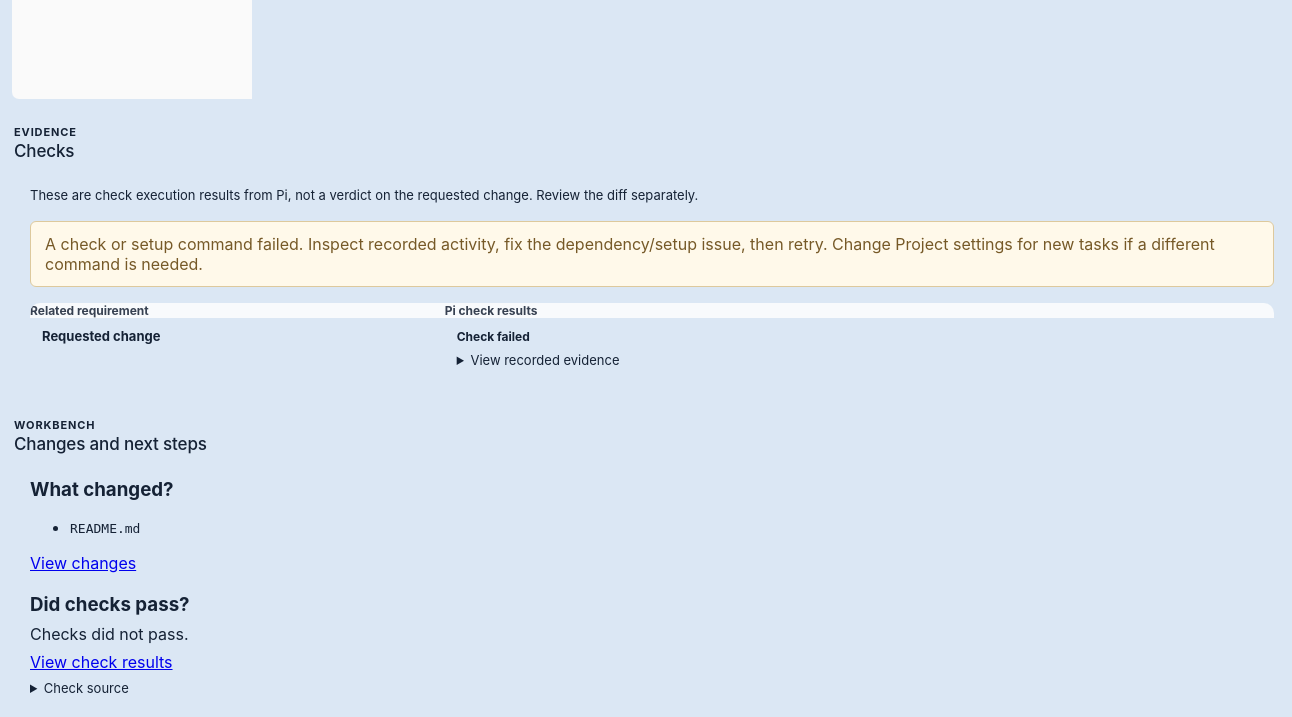
Test: separates failed Pi checks from the requirement and human patch review
(page scrolled)
Expected: the text "Requested change" is shown, [42,328,160,344]
Expected: the text "Check failed" is shown, [457,329,530,344]
Click the heading "View recorded evidence".
click(545, 360)  # box [470,352,620,368]
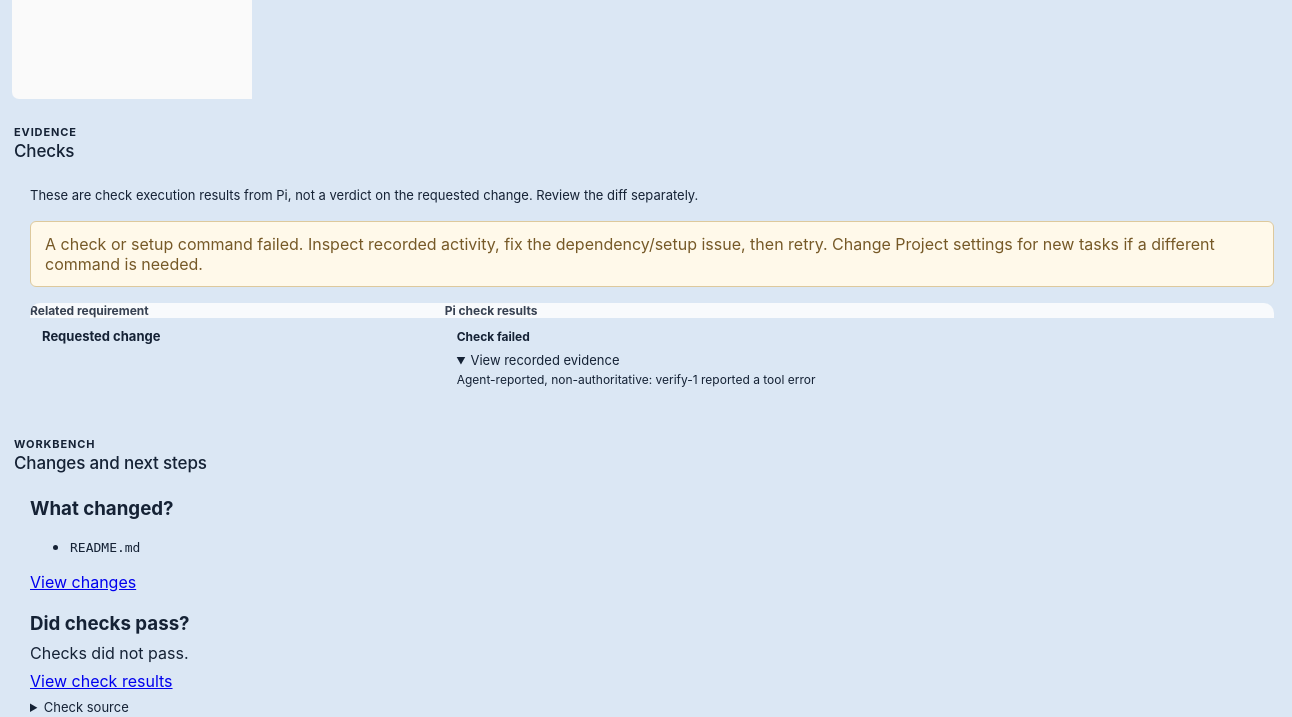
Expected: the text "Agent-reported, non-authoritative: verify-1 reported a tool error" is shown, [457,372,816,387]
